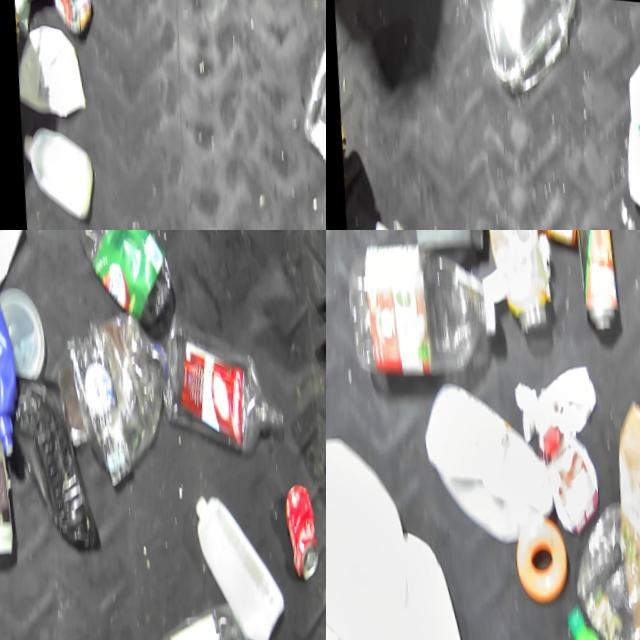can: (557, 230, 622, 327)
milk_jug: (408, 371, 552, 543), (326, 427, 408, 640), (350, 522, 462, 640), (13, 121, 92, 221), (612, 23, 640, 211)
non_white_jug: (525, 419, 597, 533), (0, 276, 24, 446)
plastic_bottle: (336, 234, 498, 380), (152, 307, 279, 448), (58, 230, 172, 318), (112, 591, 257, 640)
